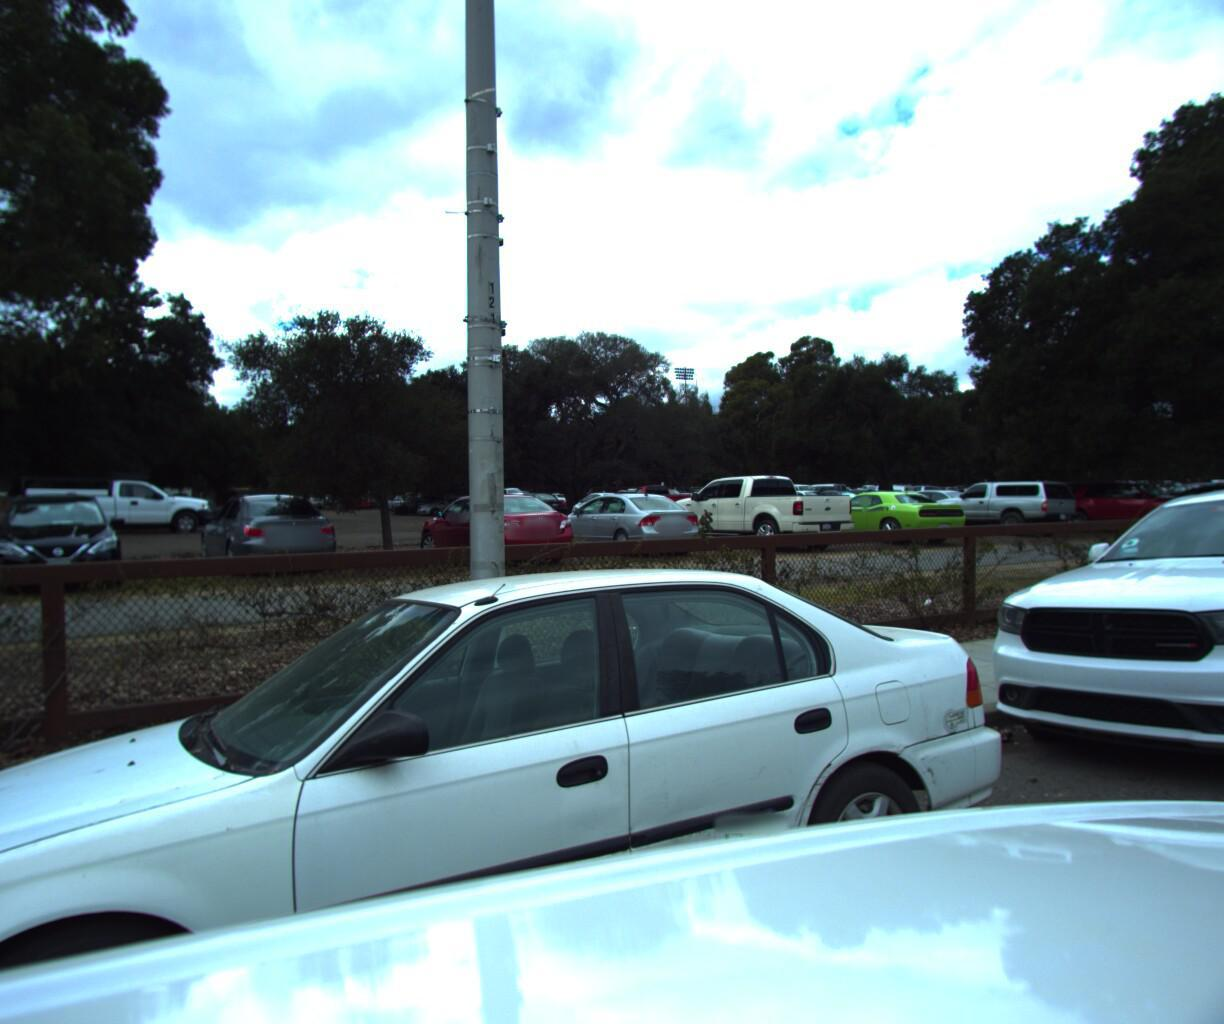car: (0, 532, 1029, 1024), (948, 450, 1224, 845)
